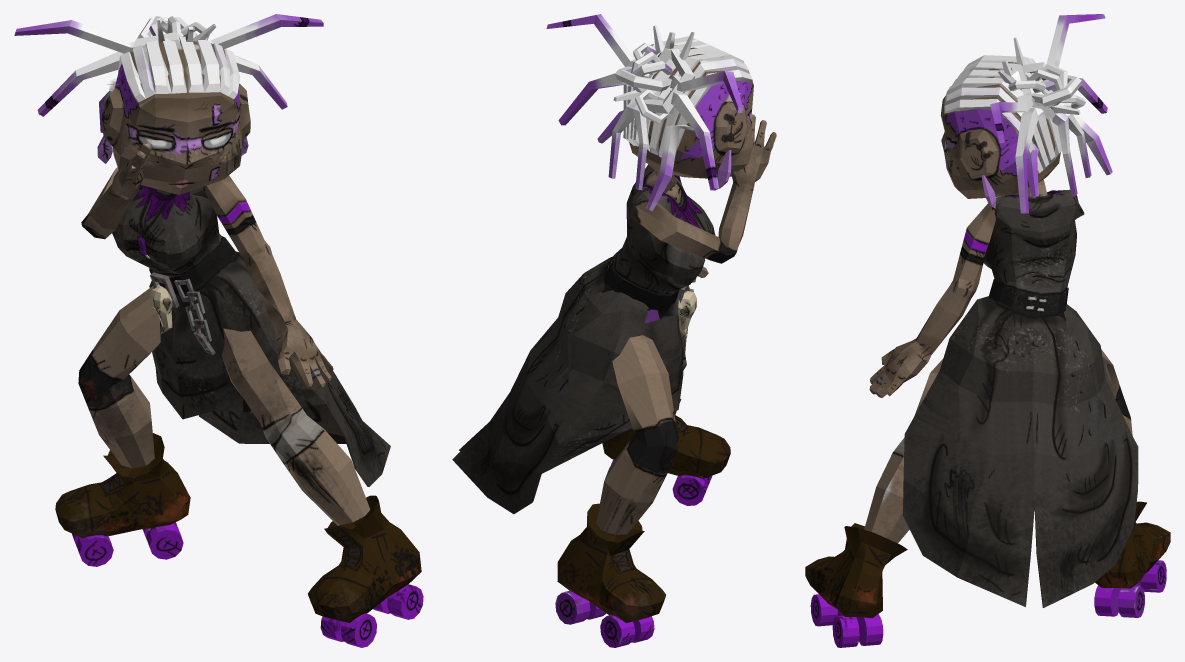
File: bruja_000032.obj
The picture shows the model from 3 angles, left to right: view 1: azimuth 30°, elevation 25°; view 2: azimuth 150°, elevation 25°; view 3: azimuth 270°, elevation 25°; orthographic projection. The views are drawn at different scales.
Visible parts, largest first — view 1: Bruja_Plane.001; view 2: Bruja_Plane.001; view 3: Bruja_Plane.001.
Boxes of the visible parts, bbox=[...] form: Bruja_Plane.001: bbox=[14, 14, 423, 647]; Bruja_Plane.001: bbox=[452, 14, 776, 647]; Bruja_Plane.001: bbox=[805, 14, 1170, 647].
Bounding box in the file's own units: 9.23 × 15.45 × 9.24.
